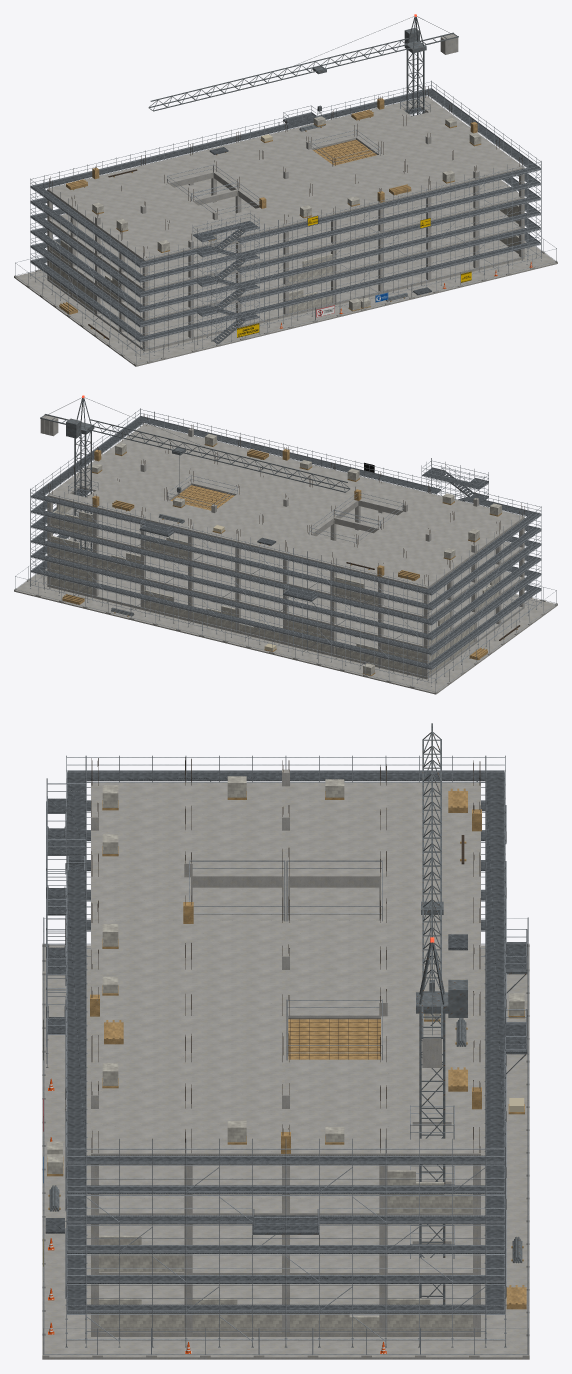
Rendered from edificio_construccion_60x30_lod1.glb.
3 renders of one model, top to bottom at view 1: azimuth 30°, elevation 25°; view 2: azimuth 150°, elevation 25°; view 3: azimuth 270°, elevation 25°, orthographic. The views are drawn at different scales.
Visible parts, largest first — view 1: MAT_Concrete, MAT_Galvanized_Steel, MAT_Metal_Grating, MAT_Aged_Steel, MAT_Concrete_Block, MAT_Formwork_Wood, MAT_Exposed_Rebar; view 2: MAT_Concrete, MAT_Galvanized_Steel, MAT_Metal_Grating, MAT_Concrete_Block, MAT_Aged_Steel, MAT_Formwork_Wood, MAT_Exposed_Rebar; view 3: MAT_Concrete, MAT_Metal_Grating, MAT_Galvanized_Steel, MAT_Concrete_Block, MAT_Aged_Steel, MAT_Formwork_Wood, MAT_Exposed_Rebar.
Boxes of the visible parts, x1,y1,x2,y2 form: MAT_Concrete: (14, 34, 557, 366); MAT_Galvanized_Steel: (15, 80, 556, 364); MAT_Metal_Grating: (31, 89, 540, 343); MAT_Aged_Steel: (30, 16, 541, 358); MAT_Concrete_Block: (49, 116, 518, 313); MAT_Formwork_Wood: (59, 98, 481, 338); MAT_Exposed_Rebar: (49, 86, 522, 339); MAT_Concrete: (14, 415, 557, 694); MAT_Galvanized_Steel: (15, 408, 556, 691); MAT_Metal_Grating: (31, 417, 540, 669); MAT_Concrete_Block: (51, 434, 501, 675); MAT_Aged_Steel: (30, 397, 541, 686); MAT_Formwork_Wood: (62, 443, 517, 675); MAT_Exposed_Rebar: (48, 414, 524, 640); MAT_Concrete: (42, 769, 529, 1359); MAT_Metal_Grating: (45, 772, 527, 1313); MAT_Galvanized_Steel: (43, 755, 528, 1354); MAT_Concrete_Block: (47, 776, 524, 1331); MAT_Aged_Steel: (46, 723, 527, 1347); MAT_Formwork_Wood: (47, 788, 526, 1309); MAT_Exposed_Rebar: (91, 757, 480, 1152).
Size of the model in its own units: 60 by 25.65 by 30.
Materials: 17 (15 with a texture image).
